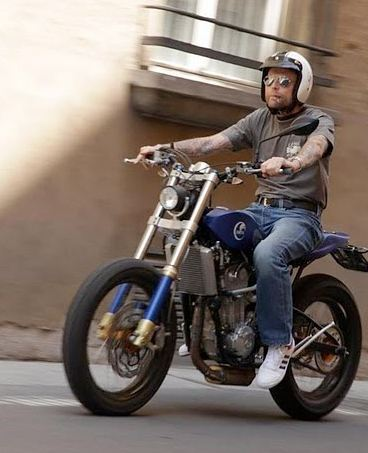motorcycle: (61, 145, 367, 435)
